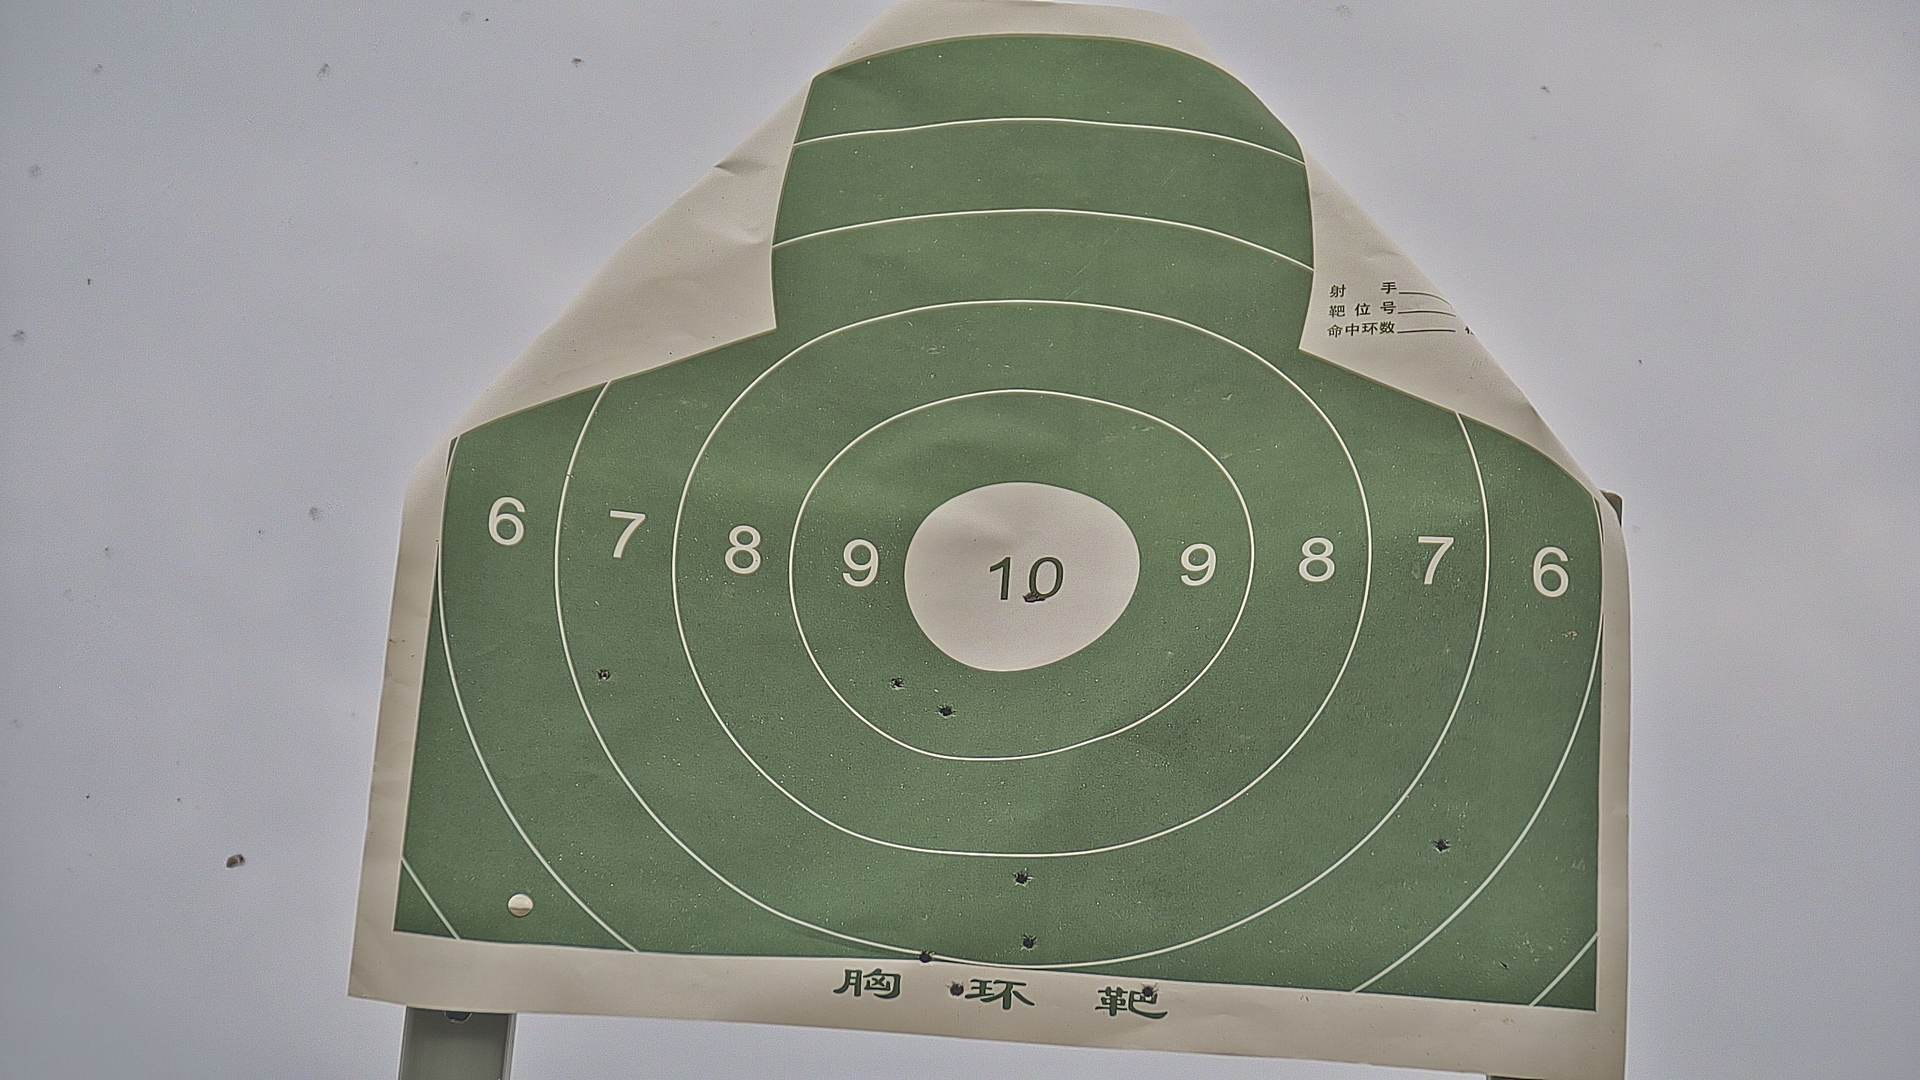hole: (889, 673, 907, 688), (1139, 982, 1158, 998), (1013, 869, 1030, 885), (1022, 592, 1044, 604), (916, 947, 932, 963), (1433, 835, 1447, 853), (595, 666, 611, 680), (1022, 935, 1036, 951), (948, 978, 963, 994), (939, 703, 952, 717)
kernel: (1017, 572, 1022, 578)
target: (386, 34, 1606, 1017)
ten: (906, 477, 1145, 671)
